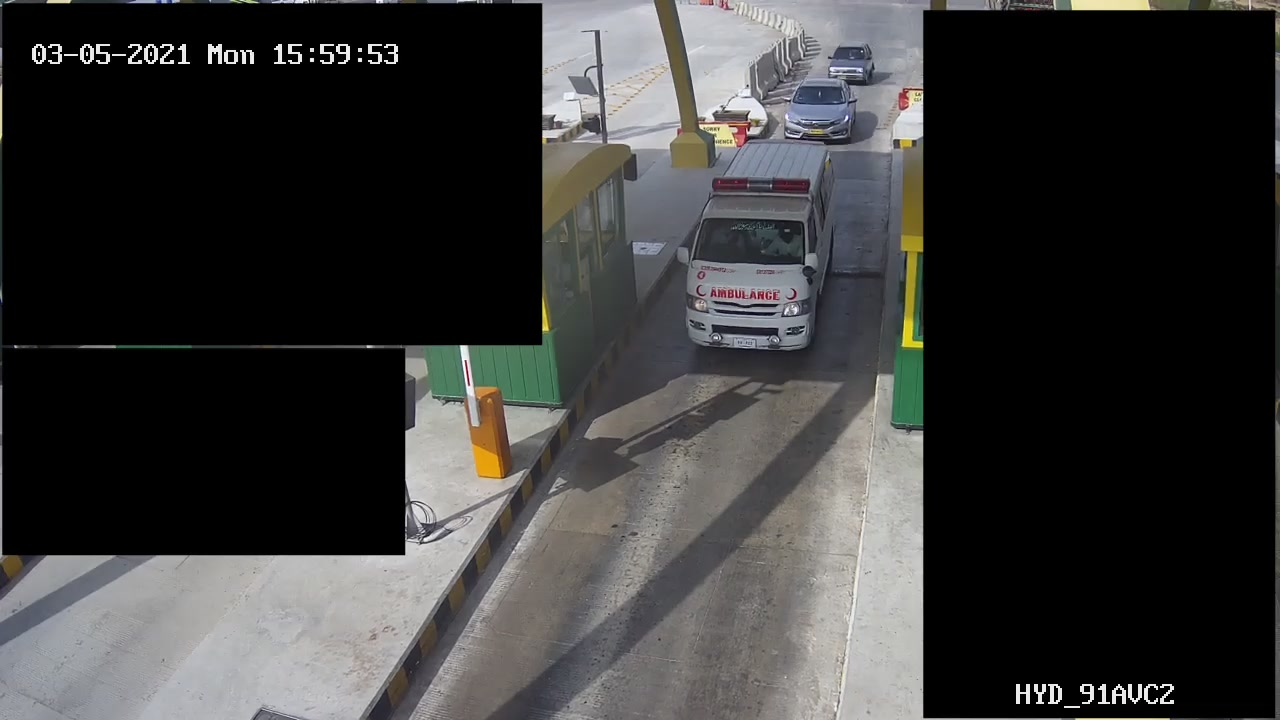F2: (673, 141, 851, 356)
